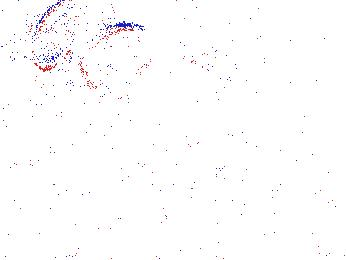moon jellyfish: (166, 46, 256, 140), (68, 25, 151, 105), (31, 1, 115, 72), (155, 9, 237, 76), (1, 57, 70, 106), (1, 1, 33, 65)
